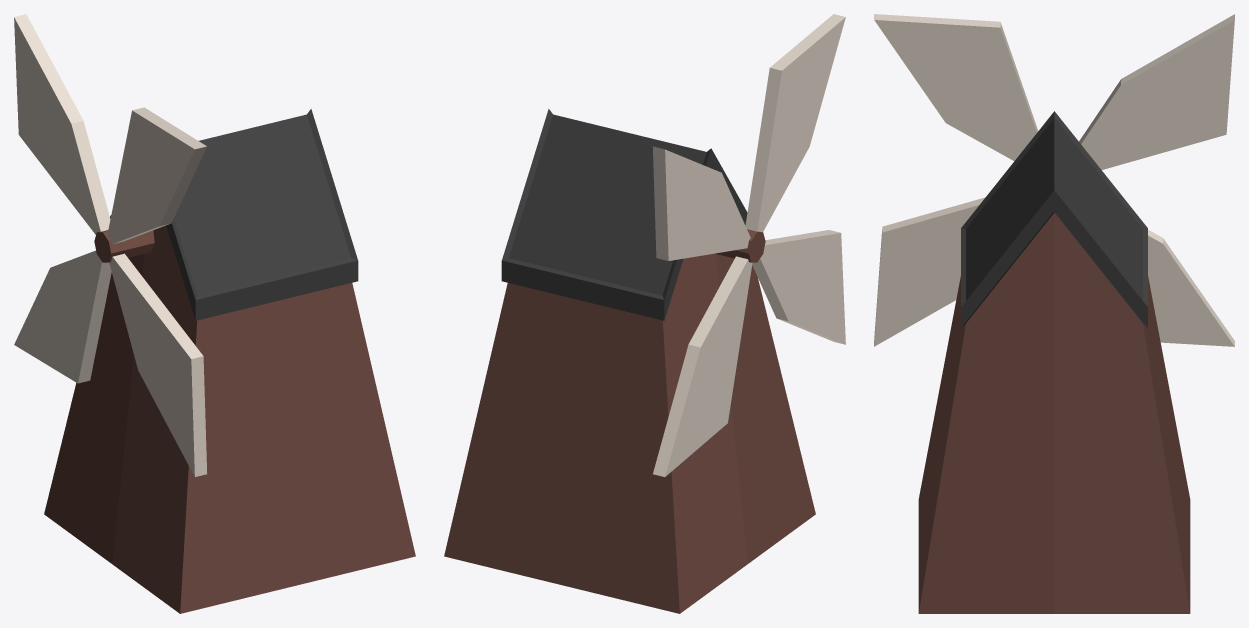
File: windmill.glb
The picture shows the model from 3 angles, left to right: view 1: azimuth 30°, elevation 25°; view 2: azimuth 150°, elevation 25°; view 3: azimuth 270°, elevation 25°; orthographic projection.
Parts seen in each view (by area): view 1: Plane; view 2: Plane; view 3: Plane.
Boxes of the visible parts, x1,y1,x2,y2 form: Plane: [14, 14, 415, 613]; Plane: [444, 14, 845, 613]; Plane: [874, 14, 1234, 613].
Bounding box in the file's own units: 4.98 × 9.38 × 6.37.
